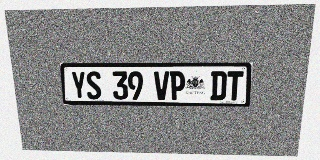3: (112, 71, 128, 100)
9: (128, 71, 143, 100)
D: (210, 71, 227, 100)
P: (170, 71, 185, 100)
S: (86, 71, 102, 99)
T: (226, 71, 244, 100)
V: (154, 71, 169, 100)
Y: (70, 71, 87, 99)
